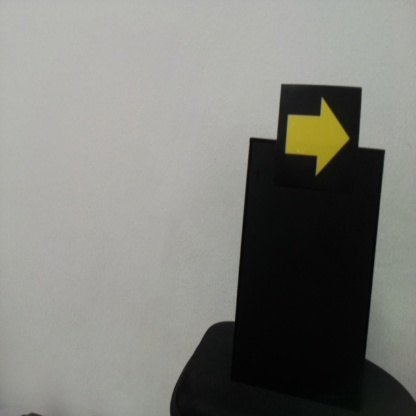id_3: (280, 86, 360, 192)
